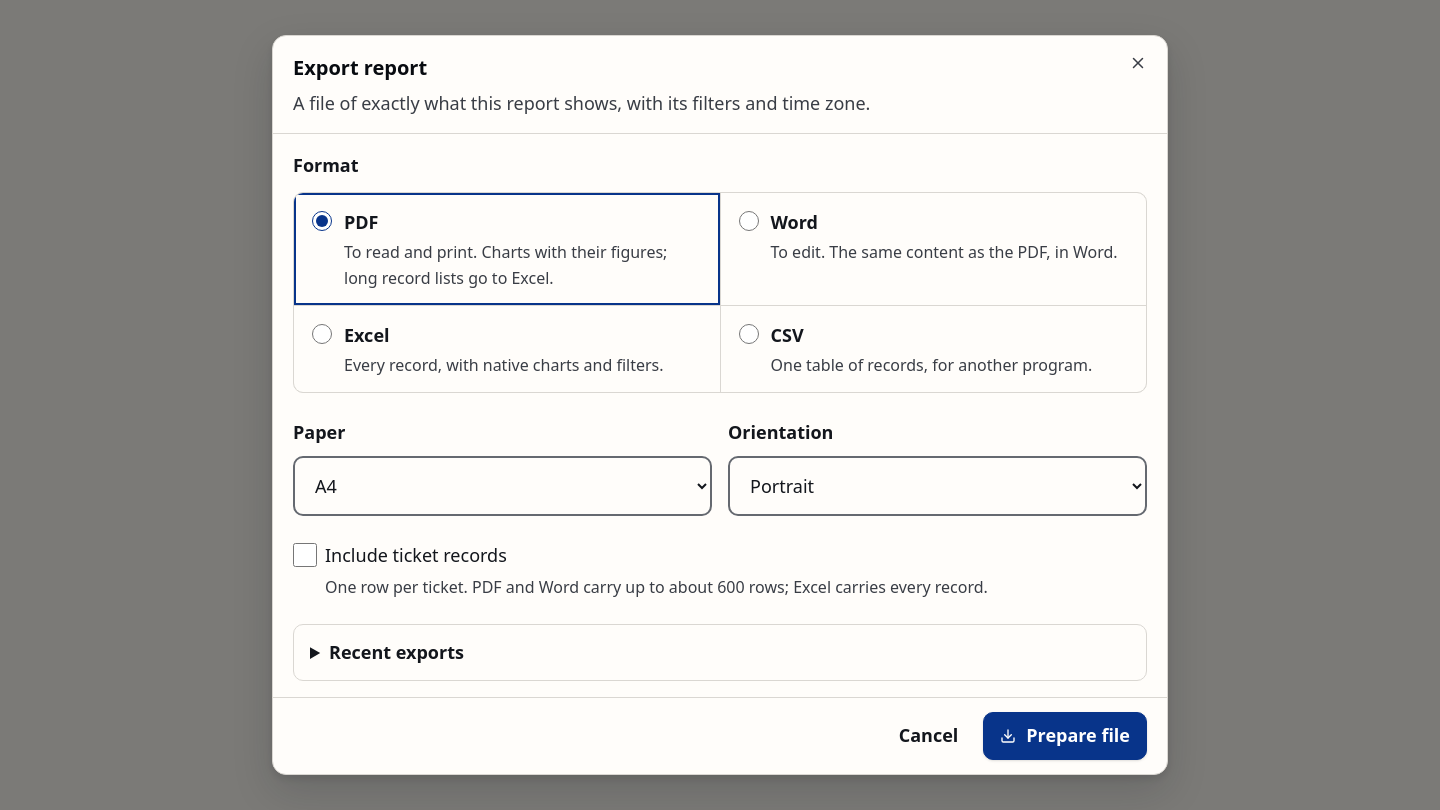
ExportDialog › says so when the file could not be prepared
The image size is (1440, 810).
Click the button "Prepare file": x=1065, y=736 [983, 712, 1147, 760]
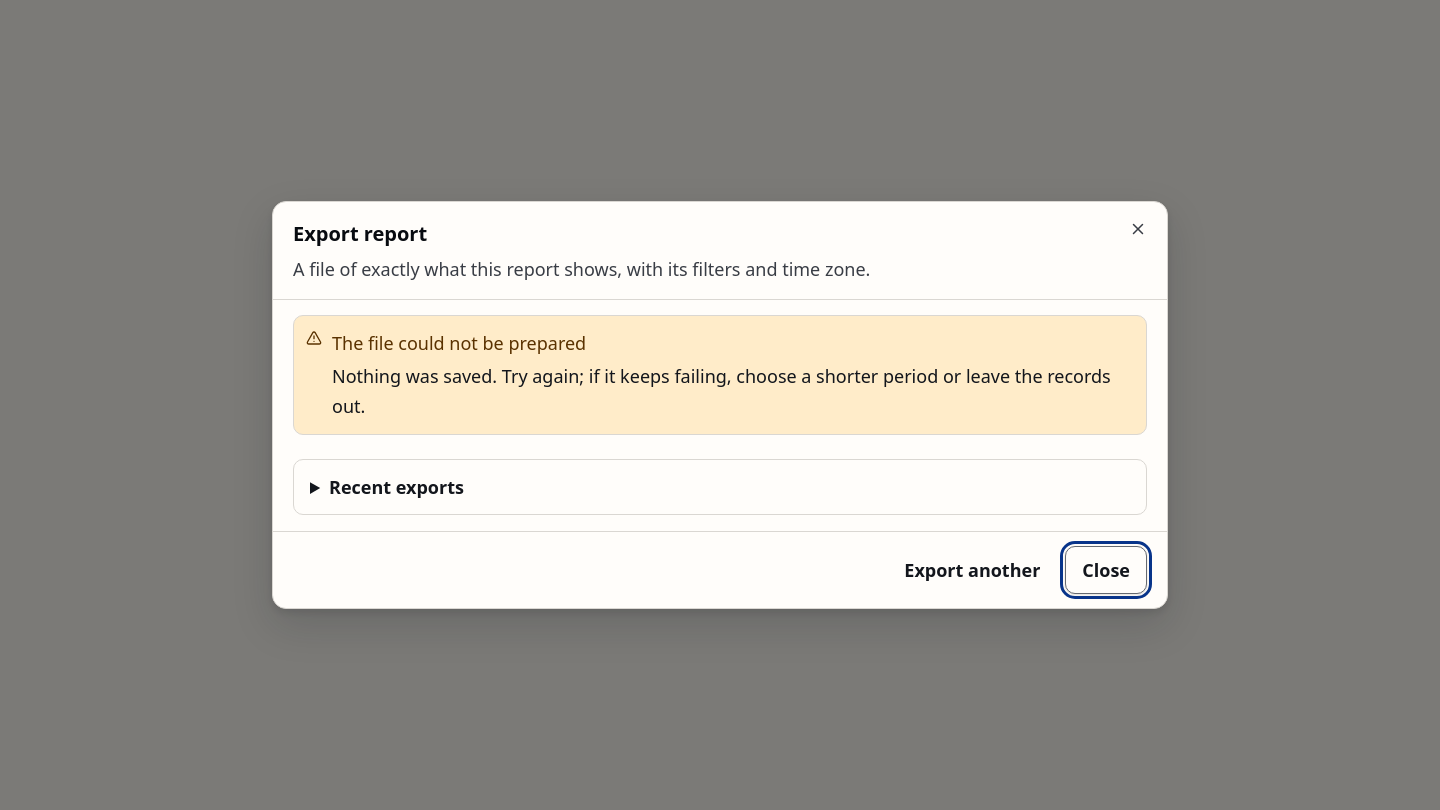
Result: the text "The file could not be prepared" is shown at [332, 331, 586, 355]
